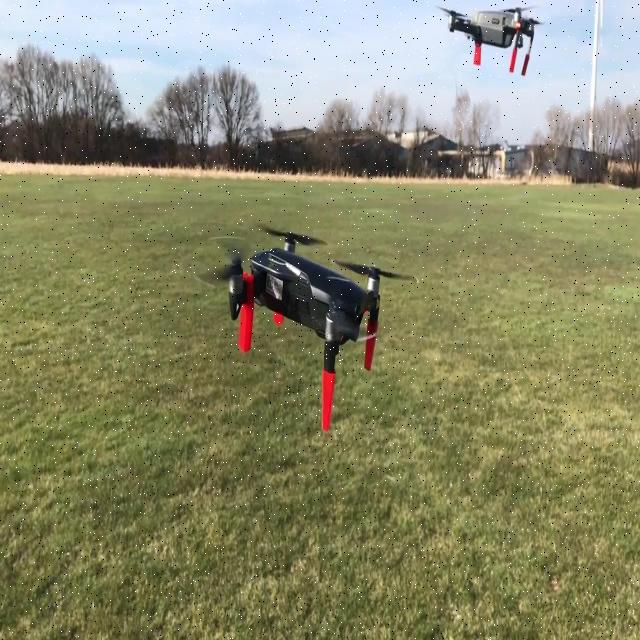UAV: (194, 220, 416, 432), (434, 0, 545, 76)
